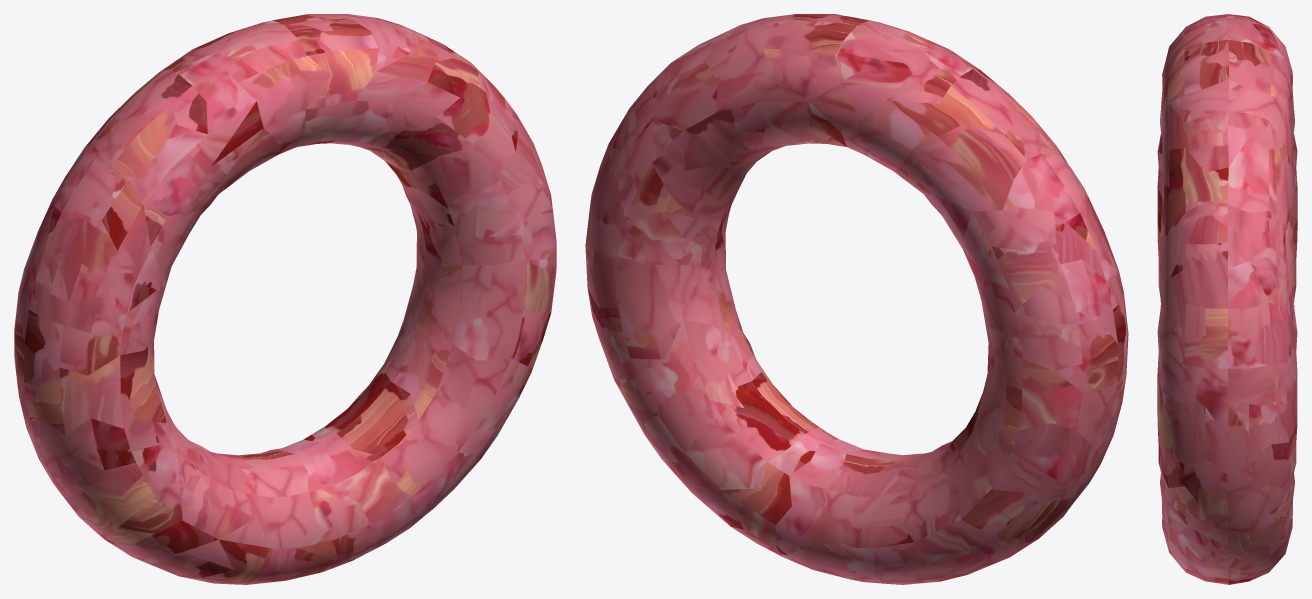
File: Ring.fbx
The picture shows the model from 3 angles, left to right: view 1: azimuth 30°, elevation 25°; view 2: azimuth 150°, elevation 25°; view 3: azimuth 270°, elevation 25°; orthographic projection. The views are drawn at different scales.
Parts seen in each view (by area): view 1: Mesh_0; view 2: Mesh_0; view 3: Mesh_0.
Part boxes in pixels (x1=…): Mesh_0: x1=14, y1=14, x2=556, y2=584; Mesh_0: x1=585, y1=14, x2=1128, y2=584; Mesh_0: x1=1157, y1=14, x2=1297, y2=584.
Bounding box in the file's own units: 1.9 × 1.91 × 0.4669.
